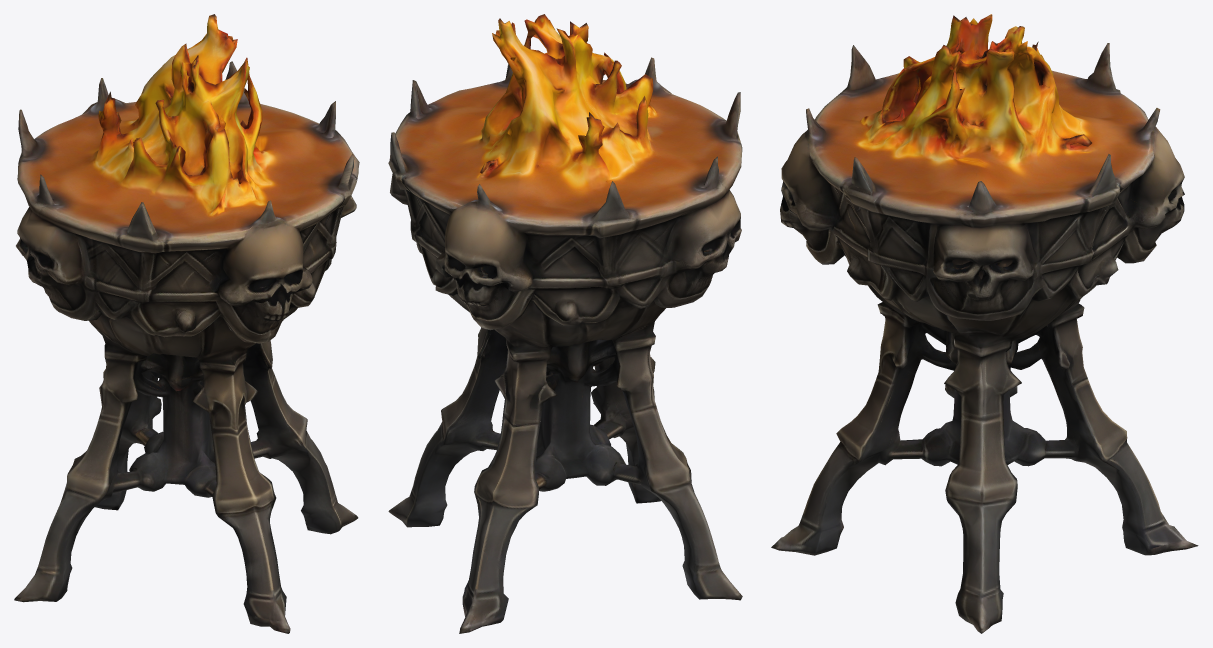
File: brazier_ornate_boss.glb
The picture shows the model from 3 angles, left to right: view 1: azimuth 30°, elevation 25°; view 2: azimuth 150°, elevation 25°; view 3: azimuth 270°, elevation 25°; orthographic projection. The views are drawn at different scales.
Bounding box in the file's own units: 1.37 × 2 × 1.42.
Materials: 1 (1 with a texture image).
